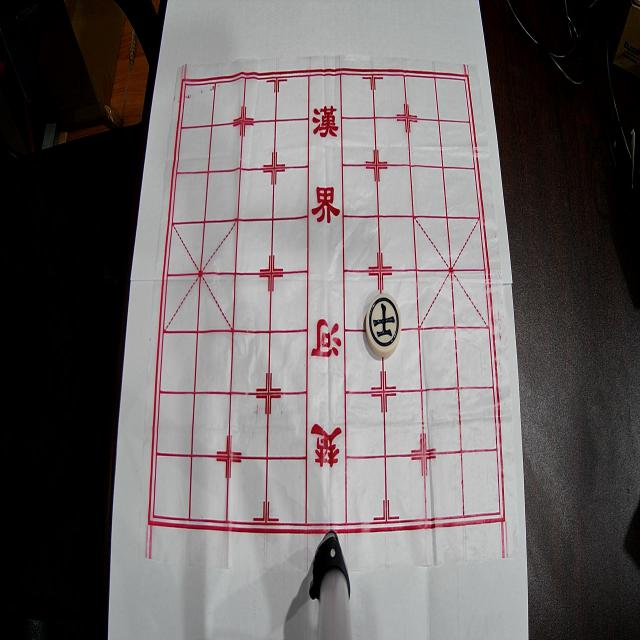black-guard: (366, 294, 402, 356)
